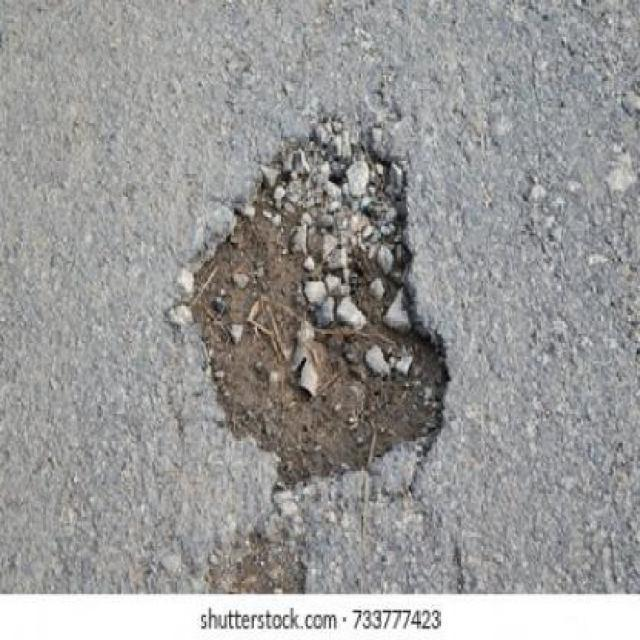Buraco: (158, 88, 456, 509)
